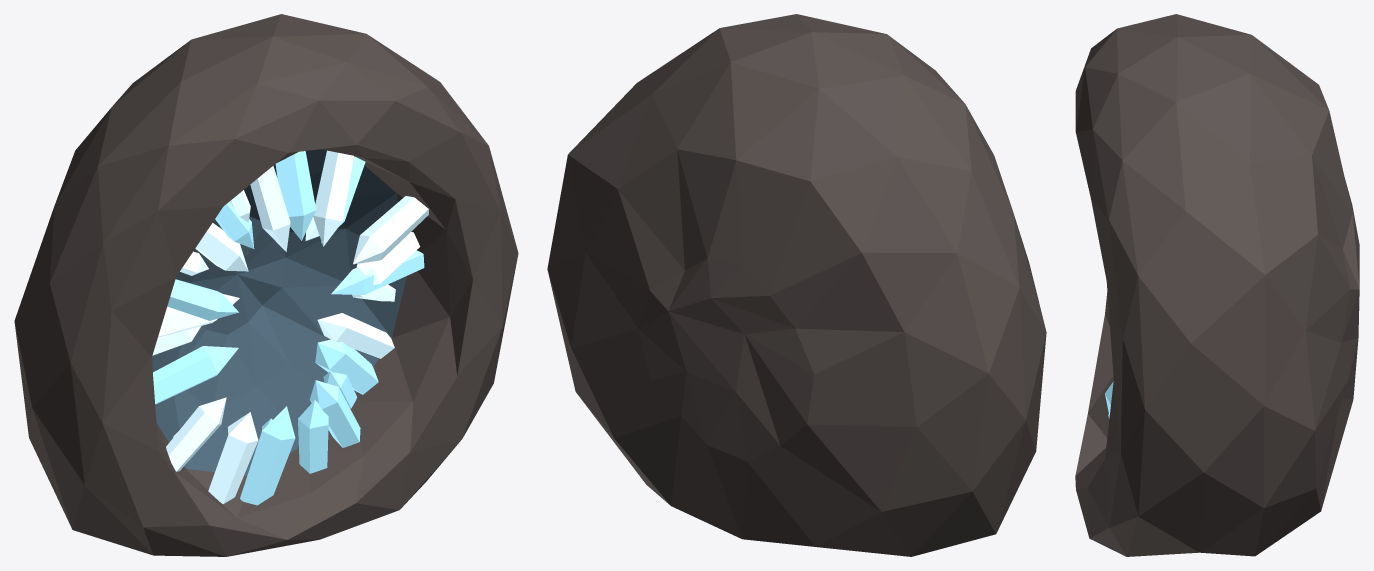
File: stage4_geode_boulder.glb
The picture shows the model from 3 angles, left to right: view 1: azimuth 30°, elevation 25°; view 2: azimuth 150°, elevation 25°; view 3: azimuth 270°, elevation 25°; orthographic projection.
Parts seen in each view (by area): view 1: shell, crystals; view 2: shell; view 3: shell.
Part boxes in pixels (x1,y1,x2,y2): shell: (14,14,518,556); crystals: (152,150,428,505); shell: (547,14,1046,556); shell: (1075,14,1359,556).
Size of the model in its own units: 1.61 by 1.6 by 0.8678.
